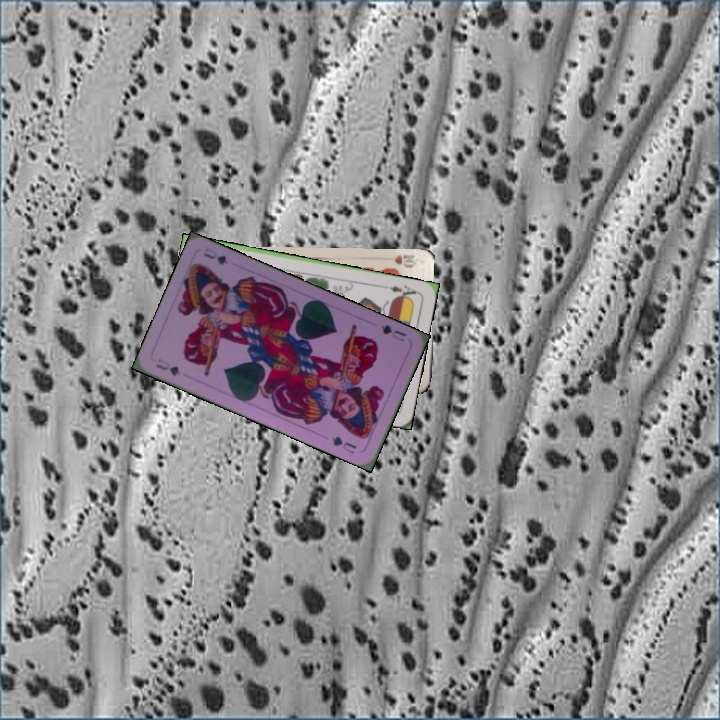EA: (380, 281, 421, 302)
GU: (377, 320, 408, 344), (152, 355, 183, 379)
H10: (391, 250, 418, 270)
